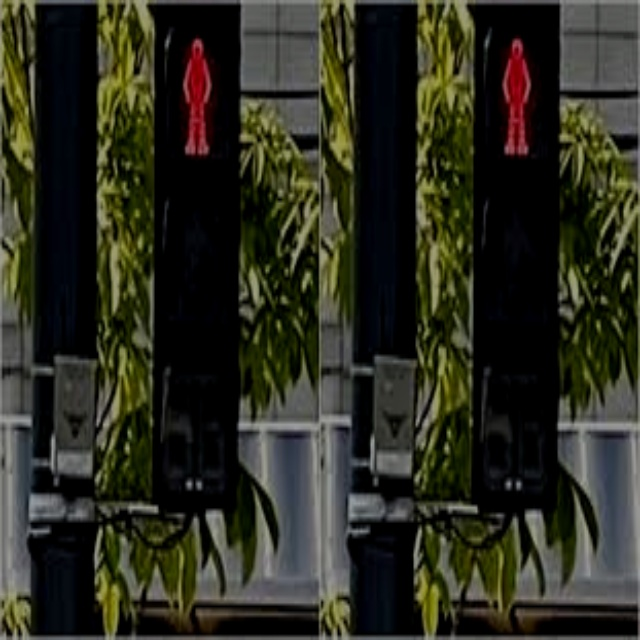red_light: (497, 35, 537, 160), (177, 30, 216, 158)
